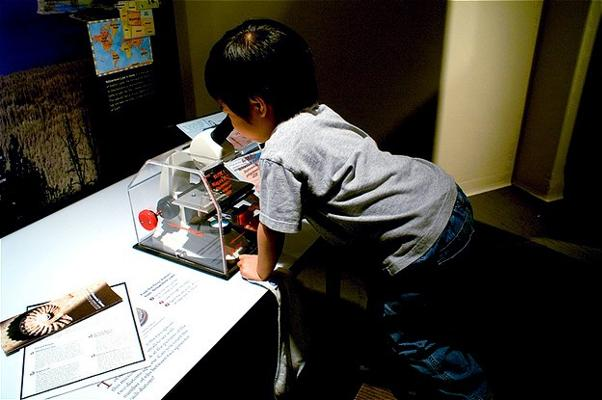person: (203, 16, 501, 400)
